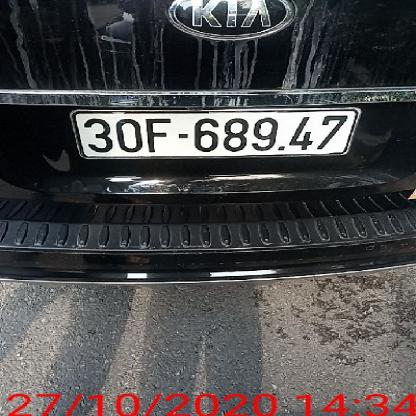biensoxe: (72, 102, 361, 162)
